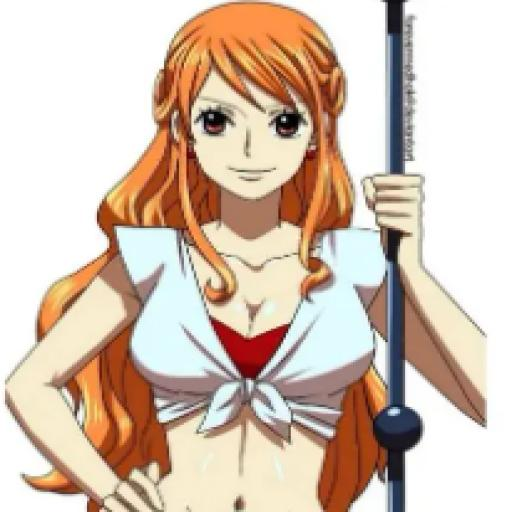Nami: (6, 0, 490, 512)
